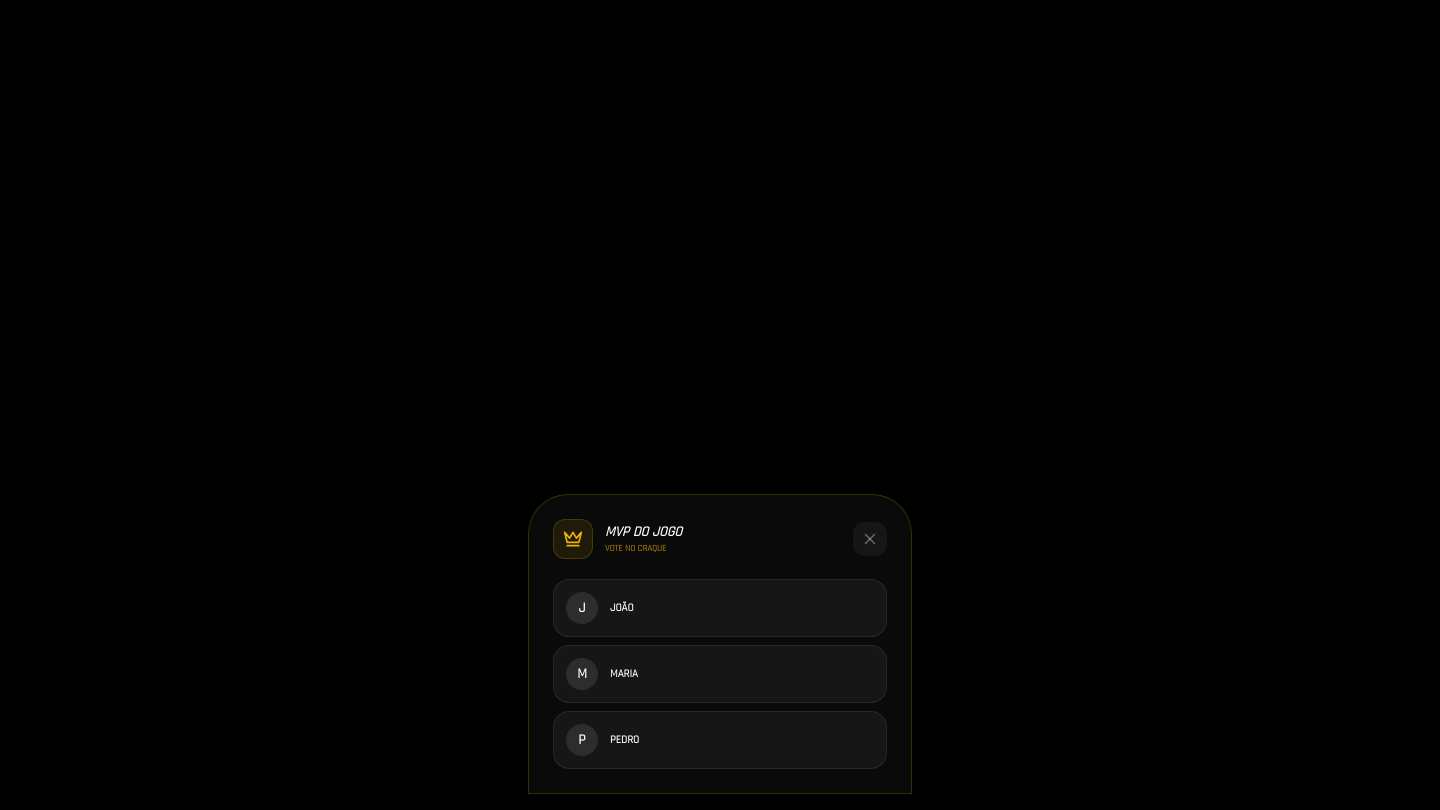
MVPScreen › votação › após votar, os botões ficam desabilitados
The width and height of the screenshot is (1440, 810).
Expected: the text "João" is shown, x1=610 y1=601 x2=634 y2=615
Click the button "J João" at (582, 608), box x1=553 y1=579 x2=887 y2=637
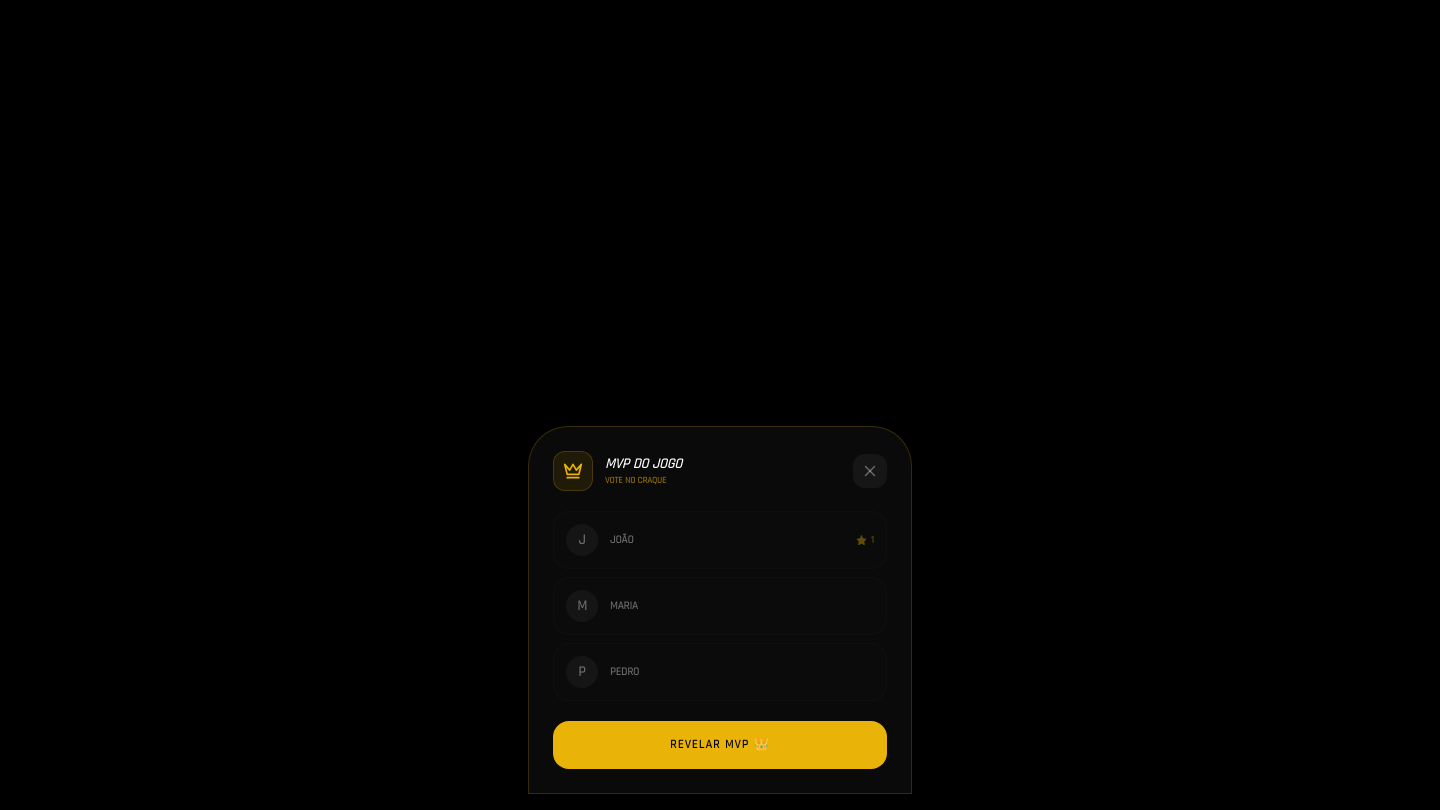
Expected: the button "J João 1" is disabled, x1=553 y1=511 x2=887 y2=569
Expected: the button "M Maria" is disabled, x1=553 y1=577 x2=887 y2=635
Expected: the button "P Pedro" is disabled, x1=553 y1=643 x2=887 y2=701
